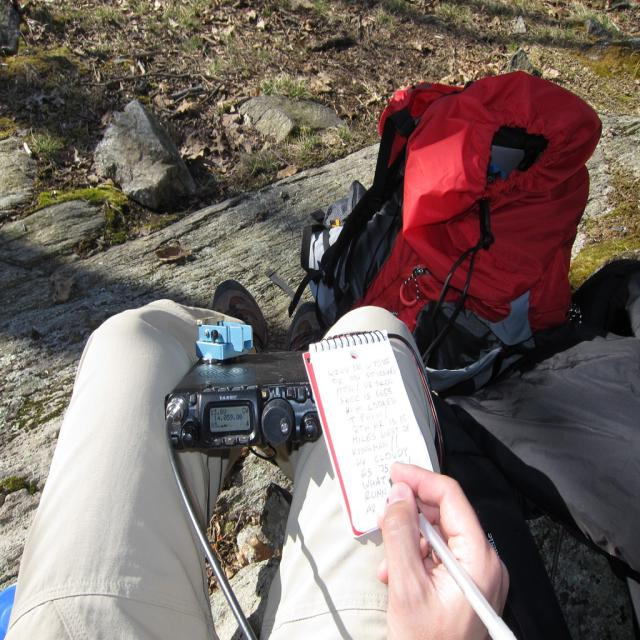backpack: (294, 73, 604, 387)
